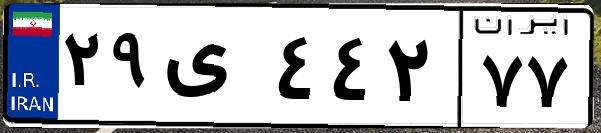2: (385, 28, 445, 110), (57, 26, 110, 100)
4: (270, 28, 330, 110), (330, 28, 385, 110)
7: (475, 38, 525, 113), (525, 38, 570, 115)
9: (110, 28, 158, 98)
ی: (158, 20, 270, 120)
